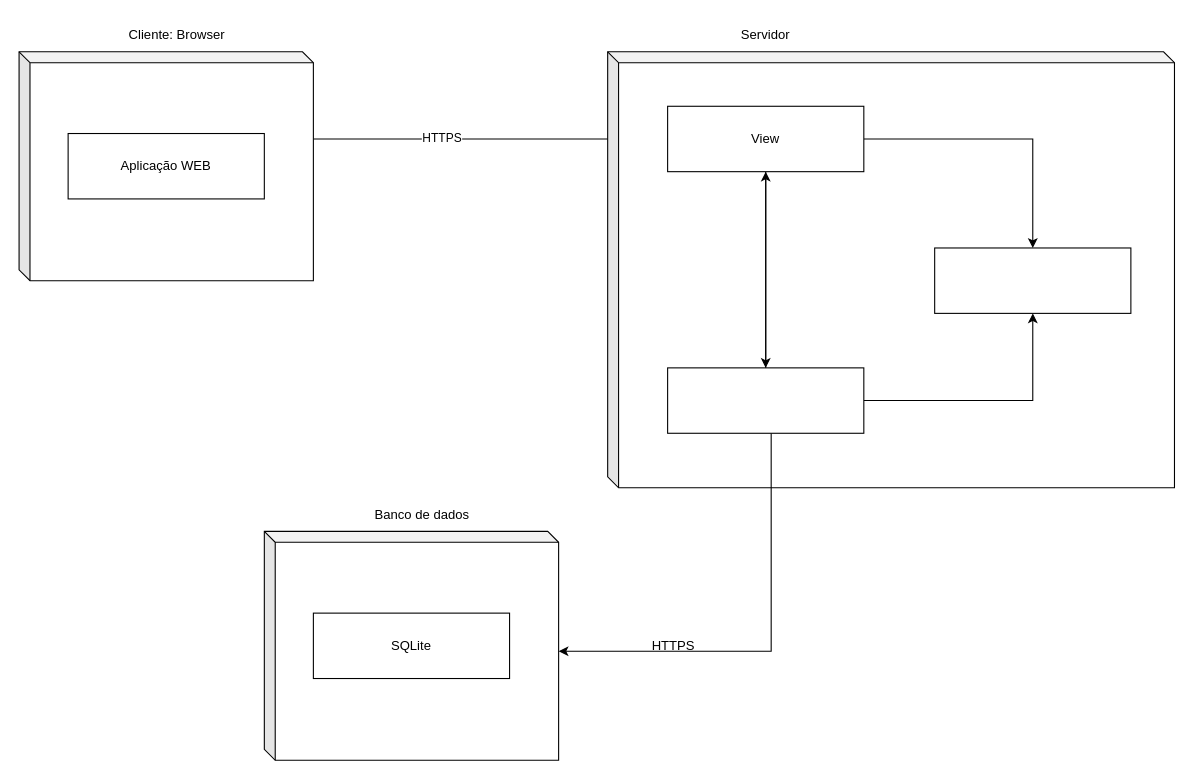
Image size: 1194x779. Some labels were removed from this diagram. Each missing label, with the centre of its shape:
"Model" belongs at pixel 1032 280.
"Services" belongs at pixel 765 400.
